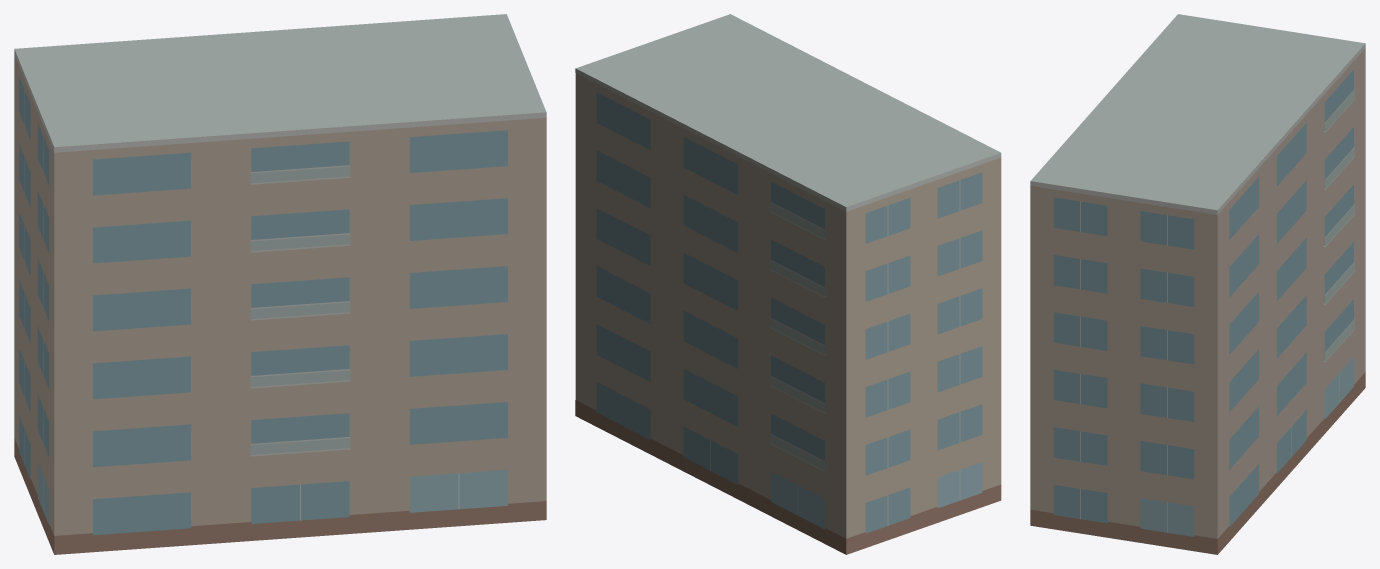
Rendered from survey-upis-33024547.glb.
3 views of the same model, side by side, from view 1: azimuth 30°, elevation 25°; view 2: azimuth 150°, elevation 25°; view 3: azimuth 270°, elevation 25° (orthographic). The views are drawn at different scales.
Parts seen in each view (by area): view 1: survey-upis-33024547.tmp; view 2: survey-upis-33024547.tmp; view 3: survey-upis-33024547.tmp.
Part boxes in pixels (x1,y1,x2,y2): survey-upis-33024547.tmp: (14, 14, 546, 554); survey-upis-33024547.tmp: (575, 14, 1001, 554); survey-upis-33024547.tmp: (1030, 14, 1365, 554).
Bounding box in the file's own units: 22.37 × 18.3 × 16.14.
